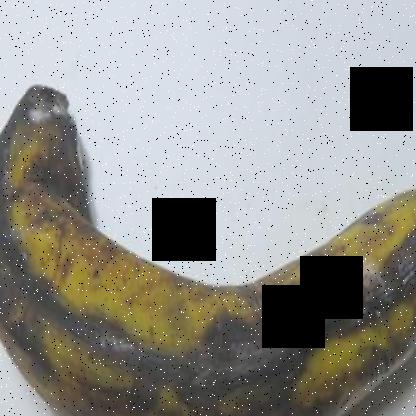overripe: (0, 73, 415, 415)
rotten: (0, 64, 136, 220)
